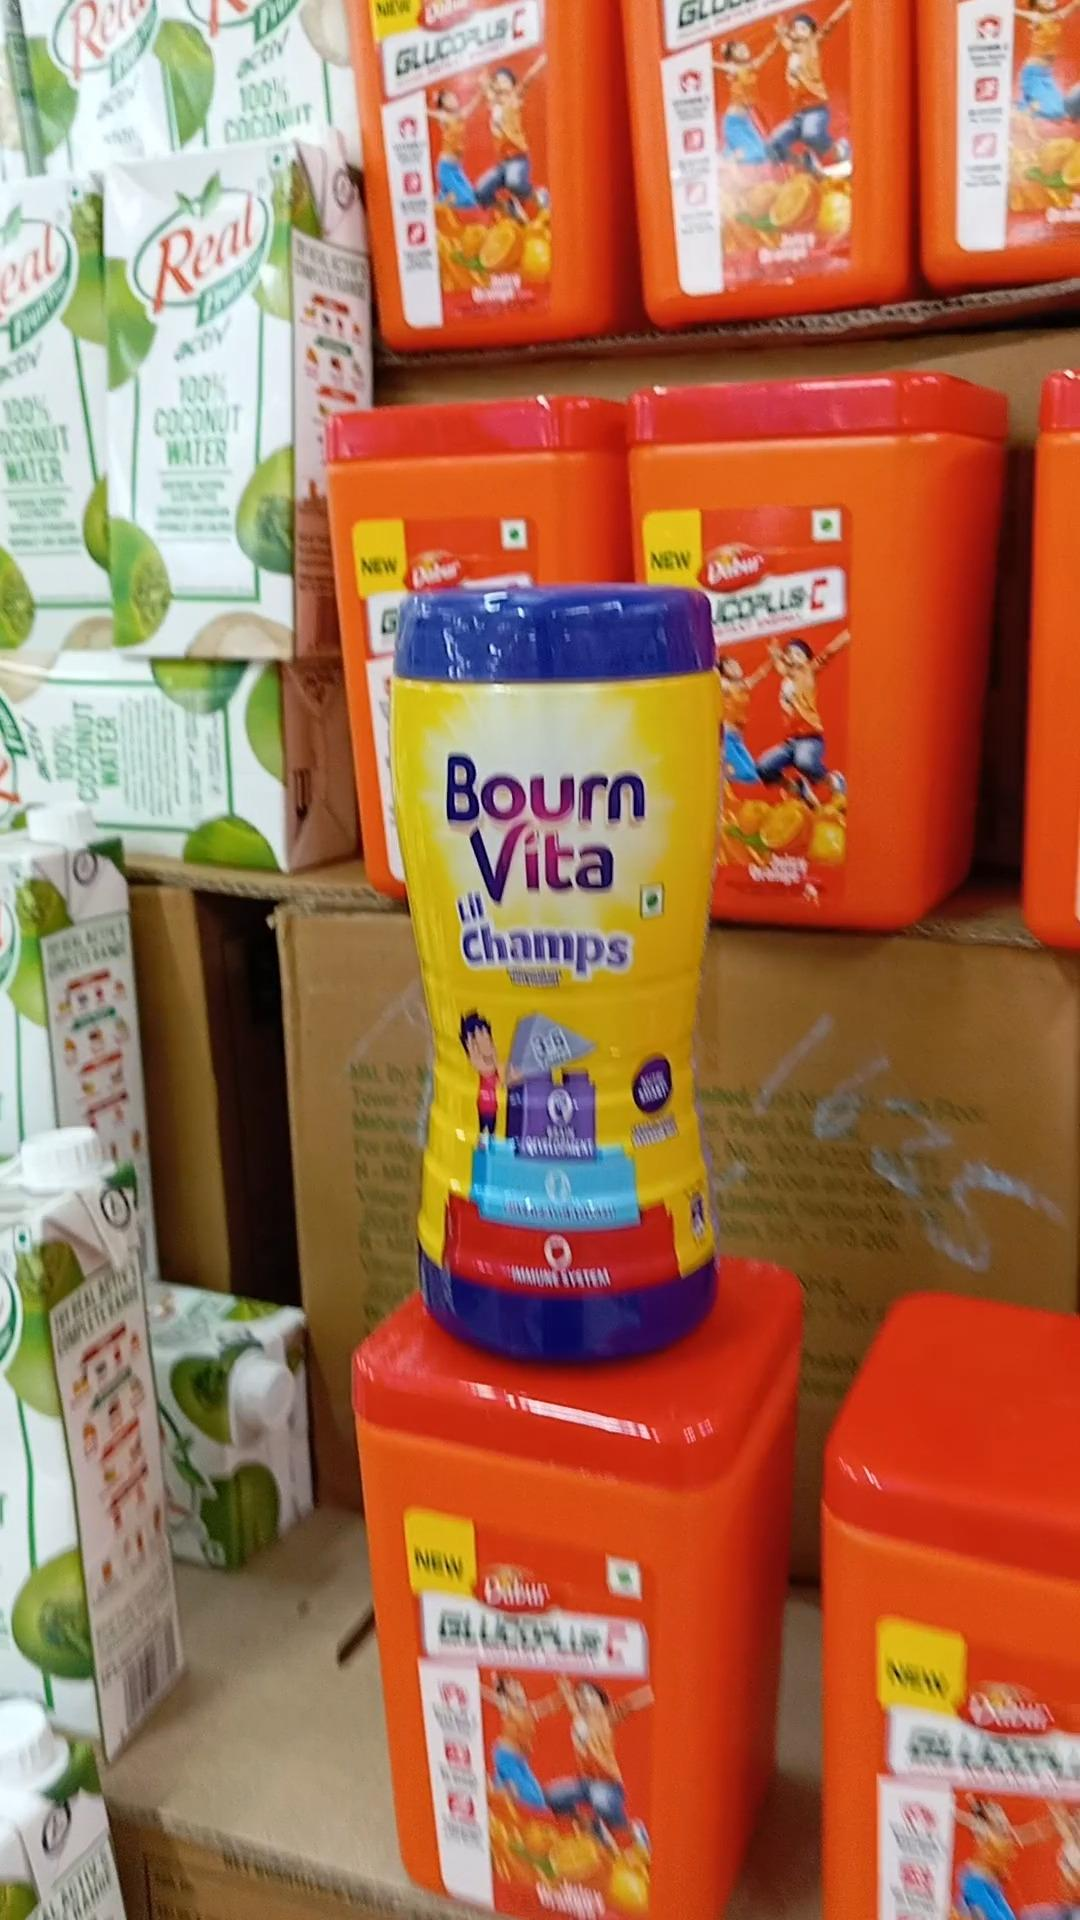BOURN_VITA_CHAMPS_500_G_JAR: (392, 584, 712, 1373)
